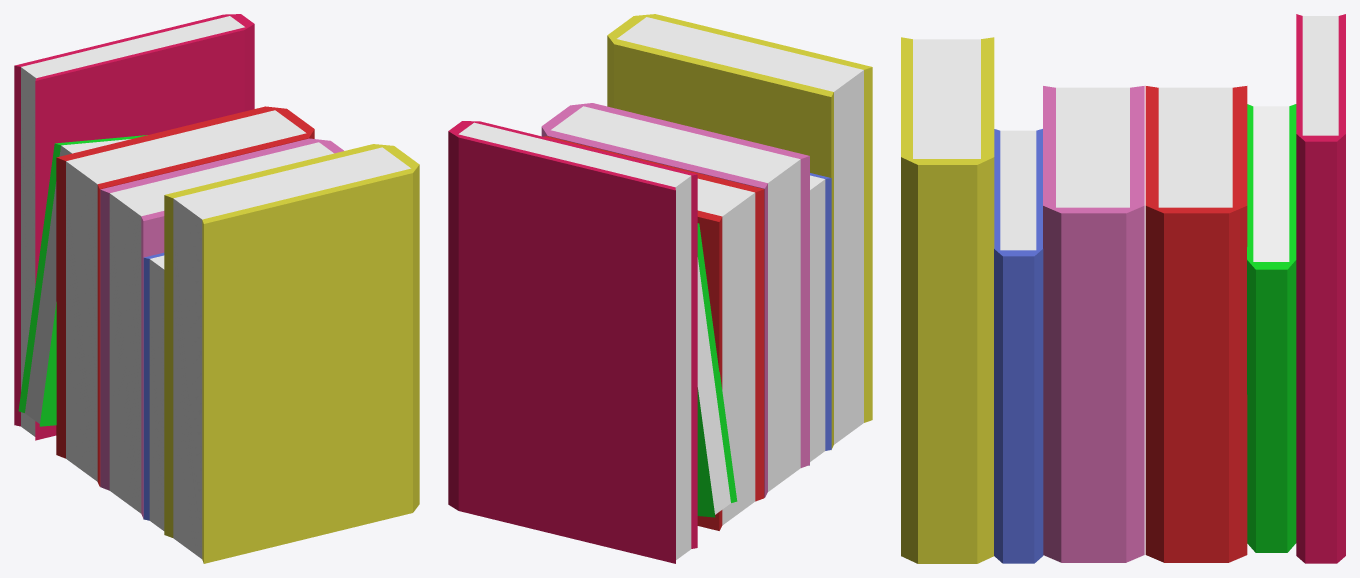
Rendered from ksiazka-ustawienie2.fbx.
3 renders of one model, left to right at view 1: azimuth 30°, elevation 25°; view 2: azimuth 150°, elevation 25°; view 3: azimuth 270°, elevation 25°, orthographic. The views are drawn at different scales.
Visible parts, largest first — view 1: Cube.004; view 2: Cube.004; view 3: Cube.004.
Boxes of the visible parts, <box> form: Cube.004: <box>14,14,419,563</box>; Cube.004: <box>448,14,872,563</box>; Cube.004: <box>901,14,1345,563</box>.
Size of the model in its own units: 324 by 434 by 414.
